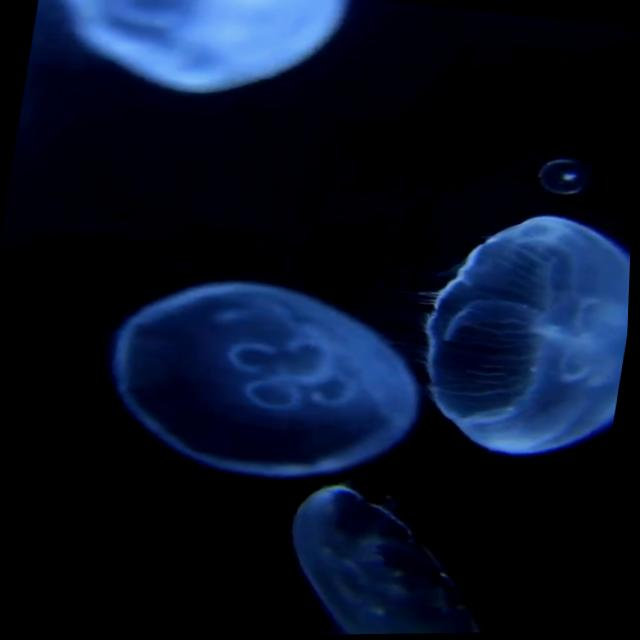Moon-jellyfish: (112, 279, 429, 484), (429, 216, 632, 459), (295, 483, 497, 636), (60, 0, 350, 94), (536, 155, 602, 202)
